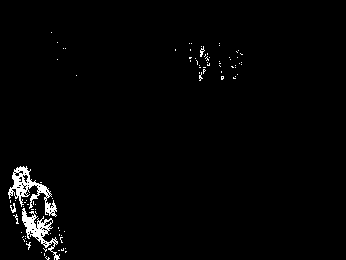person: (7, 163, 68, 260)
